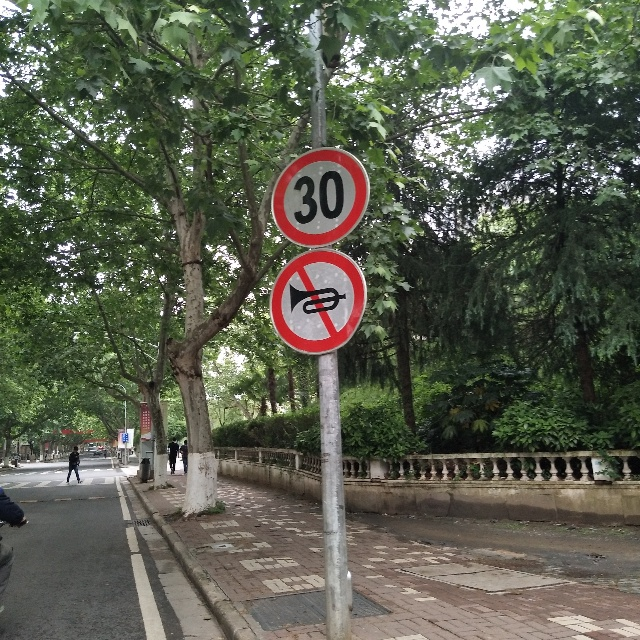nohonk: (280, 262, 357, 340)
